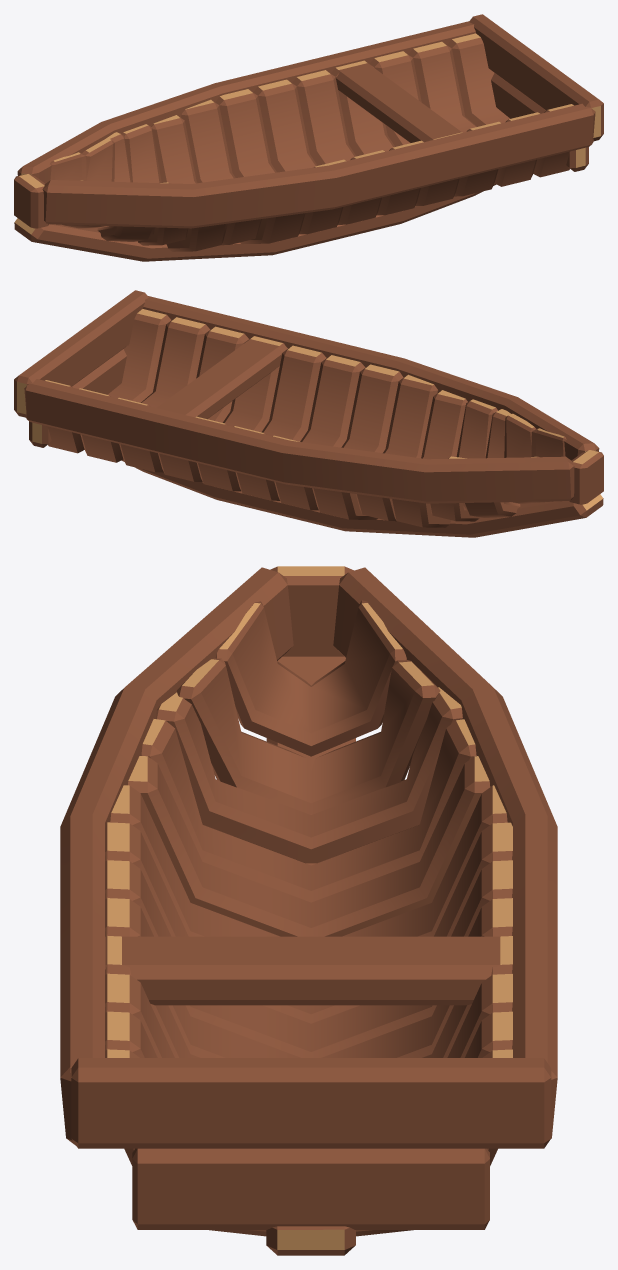
File: Boat.fbx
The picture shows the model from 3 angles, top to bottom: view 1: azimuth 30°, elevation 25°; view 2: azimuth 150°, elevation 25°; view 3: azimuth 270°, elevation 25°; orthographic projection. The views are drawn at different scales.
Visible parts, largest first — view 1: Boat; view 2: Boat; view 3: Boat.
Boxes of the visible parts, left/top/right/bottom form: Boat: left=14, top=14, right=603, bottom=261; Boat: left=14, top=290, right=603, bottom=537; Boat: left=60, top=566, right=557, bottom=1255.
Bounding box in the file's own units: 1.35 × 0.3186 × 0.5557.
